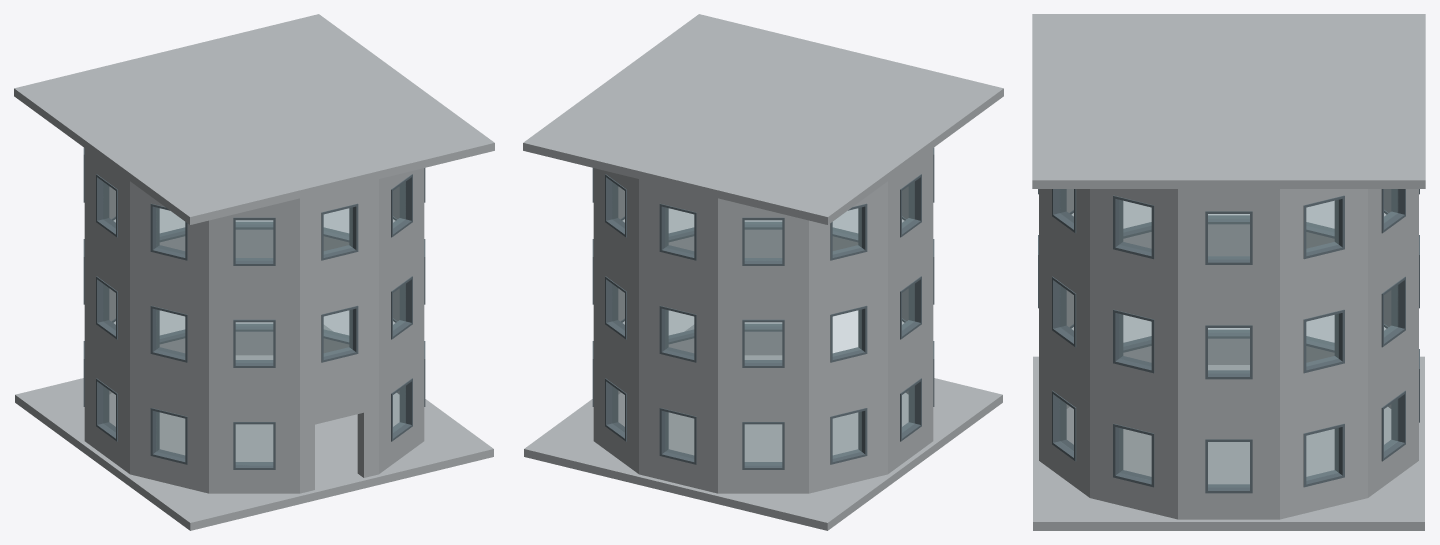
The model's file is tower_3_lod1.glb.
The picture shows the model from 3 angles, left to right: view 1: azimuth 30°, elevation 25°; view 2: azimuth 150°, elevation 25°; view 3: azimuth 270°, elevation 25°; orthographic projection. The views are drawn at different scales.
Parts seen in each view (by area): view 1: Ceiling baked, Wall_11 baked, Floor baked, Wall_0 baked, Wall_10 baked, Wall_9 baked, Wall_1 baked, Wall_5 baked, Glazing.032 baked, Glazing.033 baked, Glazing.034 baked, Glazing baked (+4 smaller); view 2: Ceiling baked, Wall_7 baked, Wall_6 baked, Floor baked, Wall_8 baked, Wall_9 baked, Wall_5 baked, Wall_1 baked, Glazing.020 baked, Glazing.021 baked, Glazing.022 baked, Glazing.017 baked (+5 smaller); view 3: Ceiling baked, Wall_3 baked, Wall_2 baked, Wall_4 baked, Floor baked, Wall_1 baked, Wall_5 baked, Wall_9 baked, Glazing.008 baked, Glazing.009 baked, Glazing.010 baked, Glazing.011 baked (+27 smaller).
Part boxes in pixels (bbox=[...]): Ceiling baked: bbox=[14, 14, 494, 224]; Wall_11 baked: bbox=[209, 198, 299, 493]; Floor baked: bbox=[15, 325, 493, 530]; Wall_0 baked: bbox=[300, 179, 378, 493]; Wall_10 baked: bbox=[130, 181, 208, 493]; Wall_9 baked: bbox=[84, 148, 129, 473]; Wall_1 baked: bbox=[379, 168, 424, 473]; Wall_5 baked: bbox=[235, 229, 273, 355]; Glazing.032 baked: bbox=[236, 424, 272, 464]; Glazing.033 baked: bbox=[236, 322, 272, 362]; Glazing.034 baked: bbox=[236, 220, 272, 260]; Glazing baked: bbox=[324, 310, 352, 356]; Ceiling baked: bbox=[523, 14, 1003, 224]; Wall_7 baked: bbox=[718, 198, 808, 493]; Wall_6 baked: bbox=[639, 179, 717, 493]; Floor baked: bbox=[524, 325, 1002, 530]; Wall_8 baked: bbox=[809, 181, 887, 493]; Wall_9 baked: bbox=[888, 148, 933, 473]; Wall_5 baked: bbox=[593, 168, 638, 473]; Wall_1 baked: bbox=[744, 229, 782, 355]; Glazing.020 baked: bbox=[745, 424, 781, 464]; Glazing.021 baked: bbox=[745, 322, 781, 362]; Glazing.022 baked: bbox=[745, 220, 781, 260]; Glazing.017 baked: bbox=[665, 412, 693, 458]; Ceiling baked: bbox=[1032, 14, 1425, 188]; Wall_3 baked: bbox=[1178, 189, 1279, 519]; Wall_2 baked: bbox=[1090, 189, 1177, 519]; Wall_4 baked: bbox=[1280, 189, 1367, 519]; Floor baked: bbox=[1033, 356, 1424, 530]; Wall_1 baked: bbox=[1039, 189, 1089, 497]; Wall_5 baked: bbox=[1368, 189, 1418, 497]; Wall_9 baked: bbox=[1208, 224, 1249, 364]; Glazing.008 baked: bbox=[1208, 442, 1249, 487]; Glazing.009 baked: bbox=[1208, 328, 1249, 373]; Glazing.010 baked: bbox=[1208, 214, 1249, 259]; Glazing.011 baked: bbox=[1306, 428, 1338, 480].
Size of the model in its own units: 10 by 9.85 by 10.
